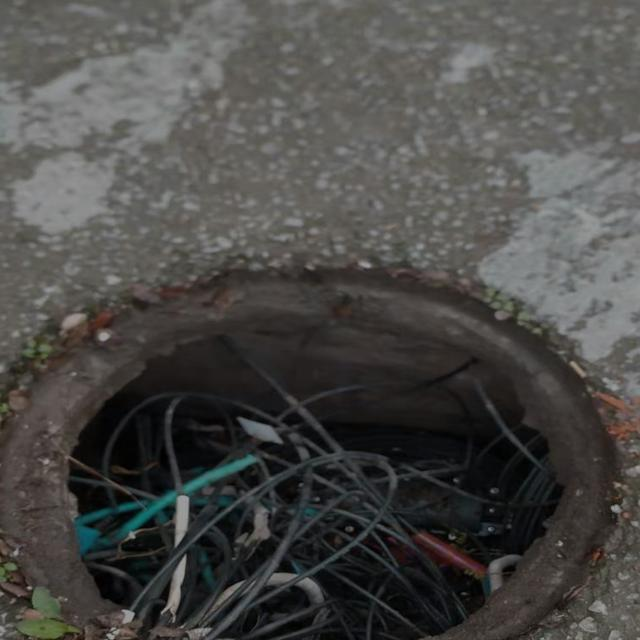lose: (0, 259, 640, 640)
